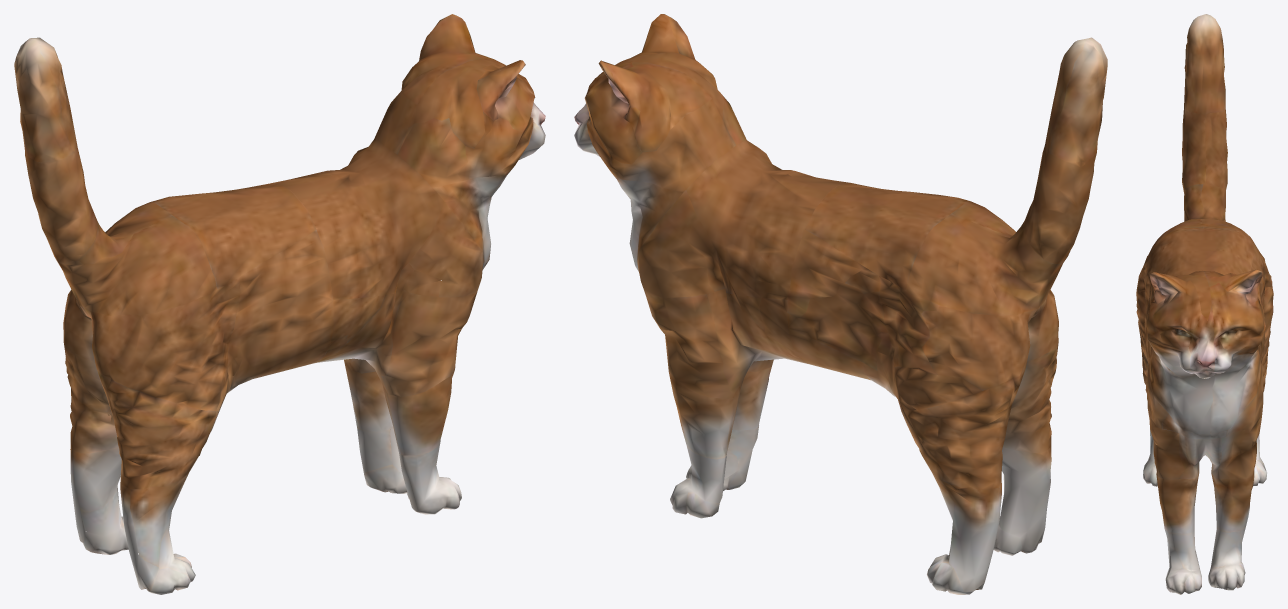
Rendered from STOURCAT-lo.glb.
3 renders of one model, left to right at view 1: azimuth 30°, elevation 25°; view 2: azimuth 150°, elevation 25°; view 3: azimuth 270°, elevation 25°, orthographic. The views are drawn at different scales.
Parts seen in each view (by area): view 1: tripo_node_b90aba78-688a-4781-9b2c-dba1c9ac1d4f; view 2: tripo_node_b90aba78-688a-4781-9b2c-dba1c9ac1d4f; view 3: tripo_node_b90aba78-688a-4781-9b2c-dba1c9ac1d4f.
Boxes of the visible parts, <box> form: tripo_node_b90aba78-688a-4781-9b2c-dba1c9ac1d4f: <box>14,14,545,594</box>; tripo_node_b90aba78-688a-4781-9b2c-dba1c9ac1d4f: <box>574,14,1107,594</box>; tripo_node_b90aba78-688a-4781-9b2c-dba1c9ac1d4f: <box>1136,14,1273,594</box>.
Bounding box in the file's own units: 0.9968 × 0.9996 × 0.2907.
Materials: 1 (1 with a texture image).
